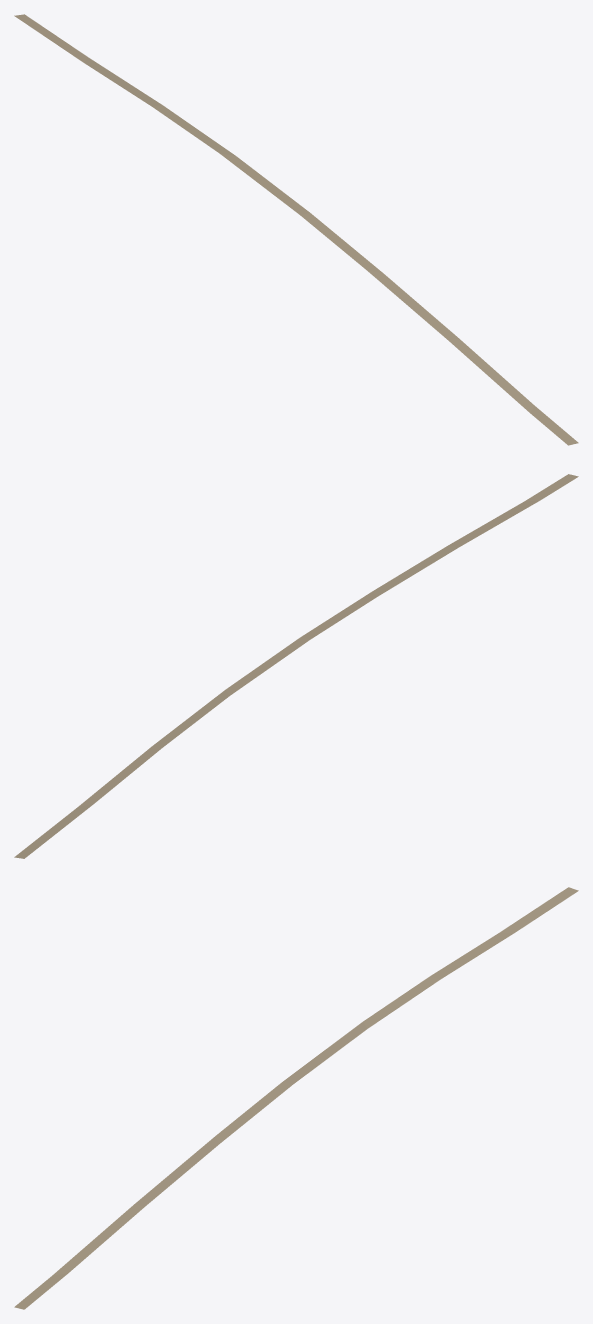
File: farm_-8_10_track.glb
3 renders of one model, top to bottom at view 1: azimuth 30°, elevation 25°; view 2: azimuth 150°, elevation 25°; view 3: azimuth 330°, elevation 25°, orthographic.
Visible parts, largest first — view 1: geometry_0; view 2: geometry_0; view 3: geometry_0.
Part boxes in pixels (x1,y1,x2,y2): geometry_0: (14, 14, 578, 445); geometry_0: (14, 474, 578, 858); geometry_0: (14, 887, 578, 1309).
Bounding box in the file's own units: 4.8 × 9.98 × 300.
